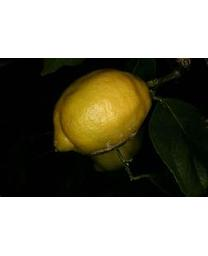lemon: (51, 69, 150, 153)
